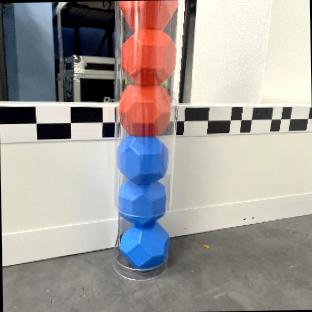V5_BLUE: (116, 221, 169, 268), (117, 135, 167, 181), (117, 180, 165, 222)
V5_RED: (119, 21, 176, 88), (117, 81, 170, 137), (119, 0, 176, 31)
